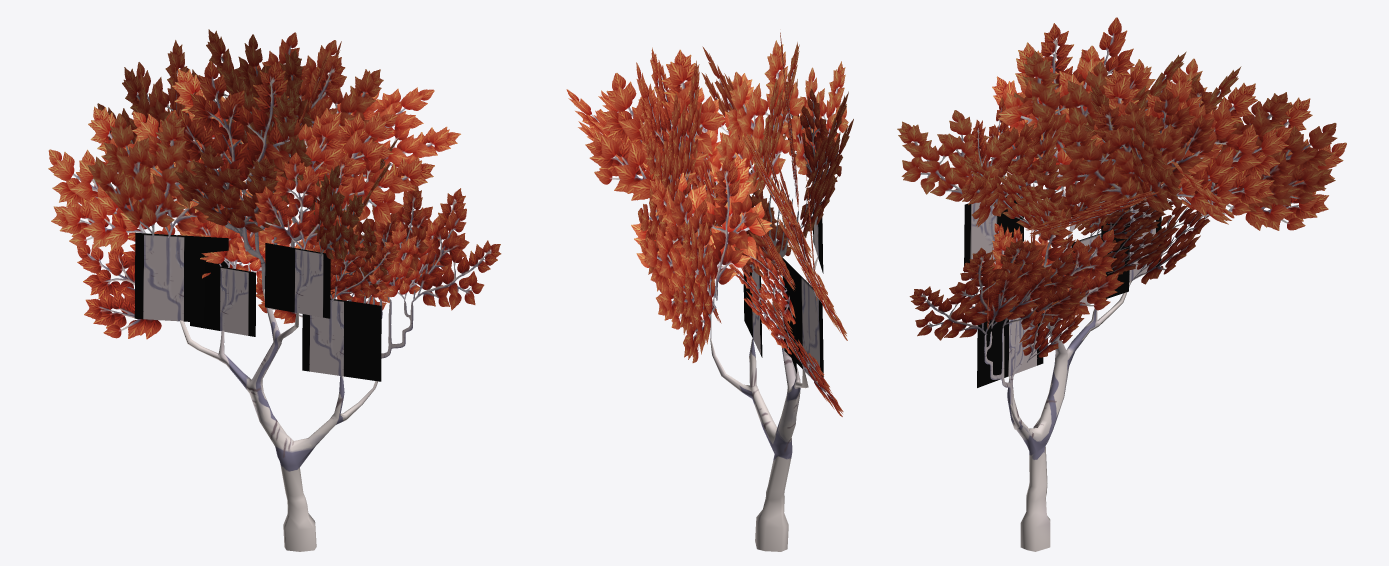
File: Tree2.obj
The picture shows the model from 3 angles, left to right: view 1: azimuth 30°, elevation 25°; view 2: azimuth 150°, elevation 25°; view 3: azimuth 270°, elevation 25°; orthographic projection. The views are drawn at different scales.
Visible parts, largest first — view 1: pPlane99; view 2: pPlane99; view 3: pPlane99.
Boxes of the visible parts, bbox=[...] form: pPlane99: bbox=[48, 29, 501, 551]; pPlane99: bbox=[566, 32, 853, 551]; pPlane99: bbox=[897, 17, 1346, 551].
Bounding box in the file's own units: 46.34 × 63.63 × 54.37.
